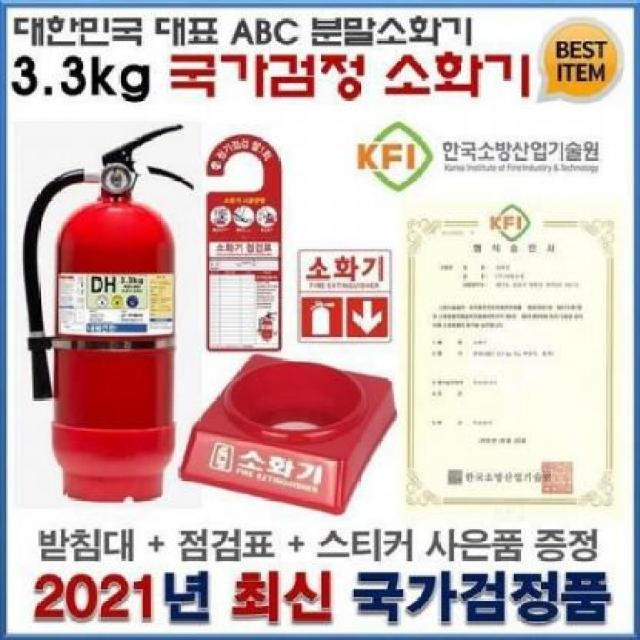fire extinguisher: (21, 123, 195, 505)
